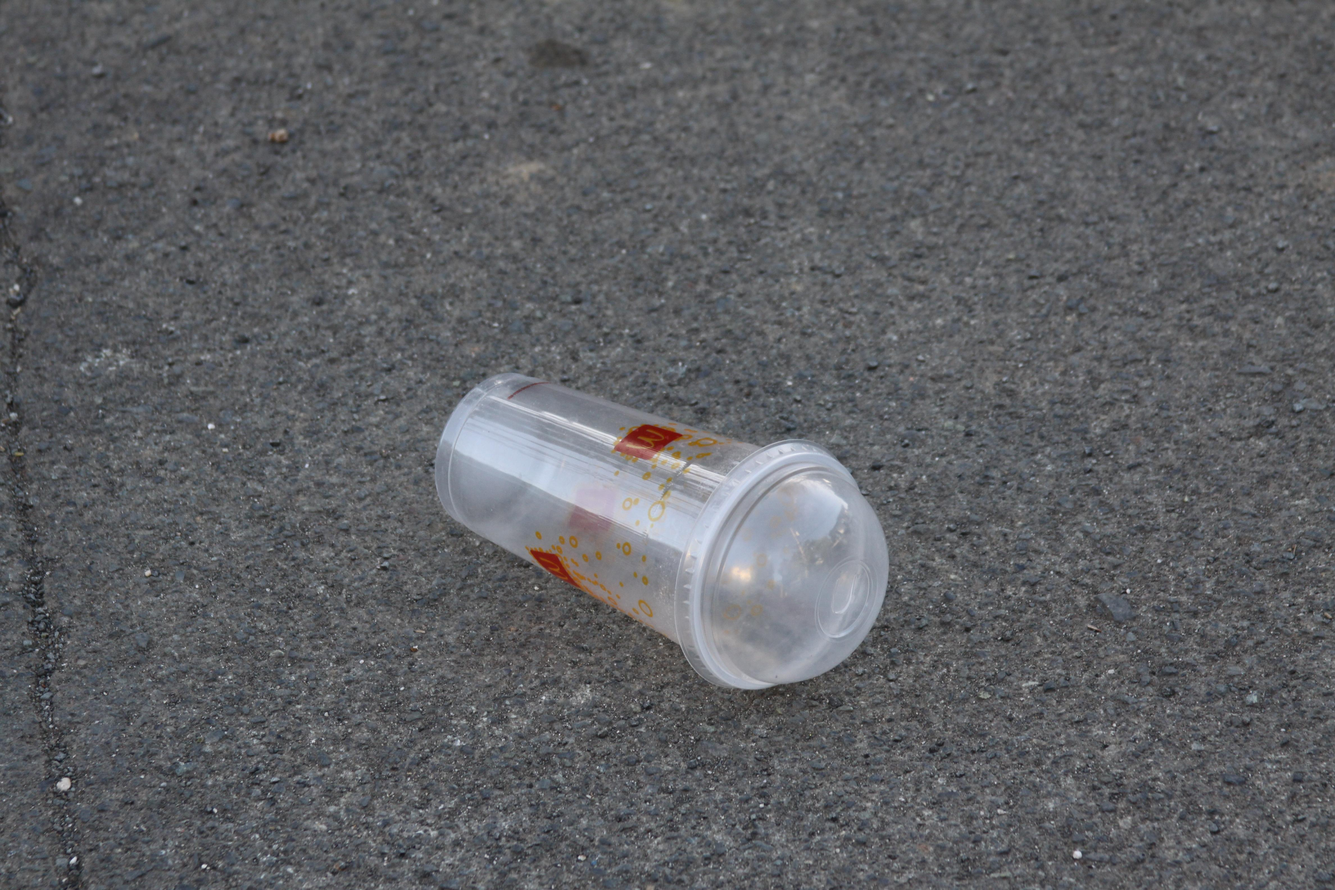Plastic: (430, 367, 893, 697)
